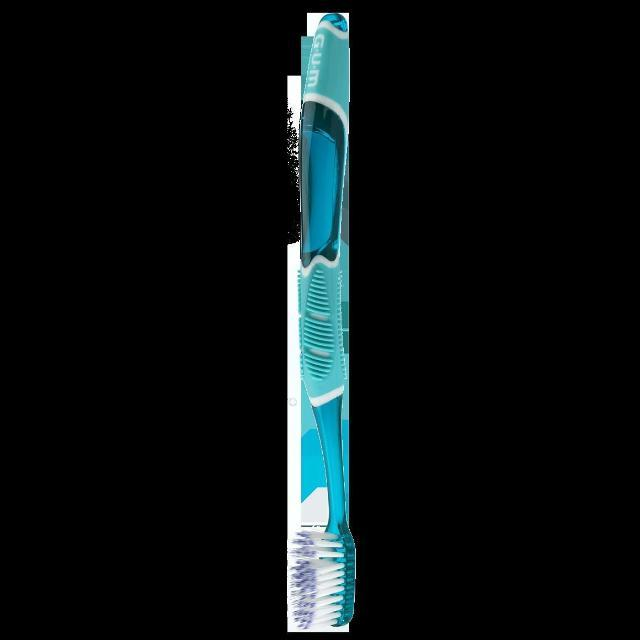toothbrush: (290, 12, 360, 640)
